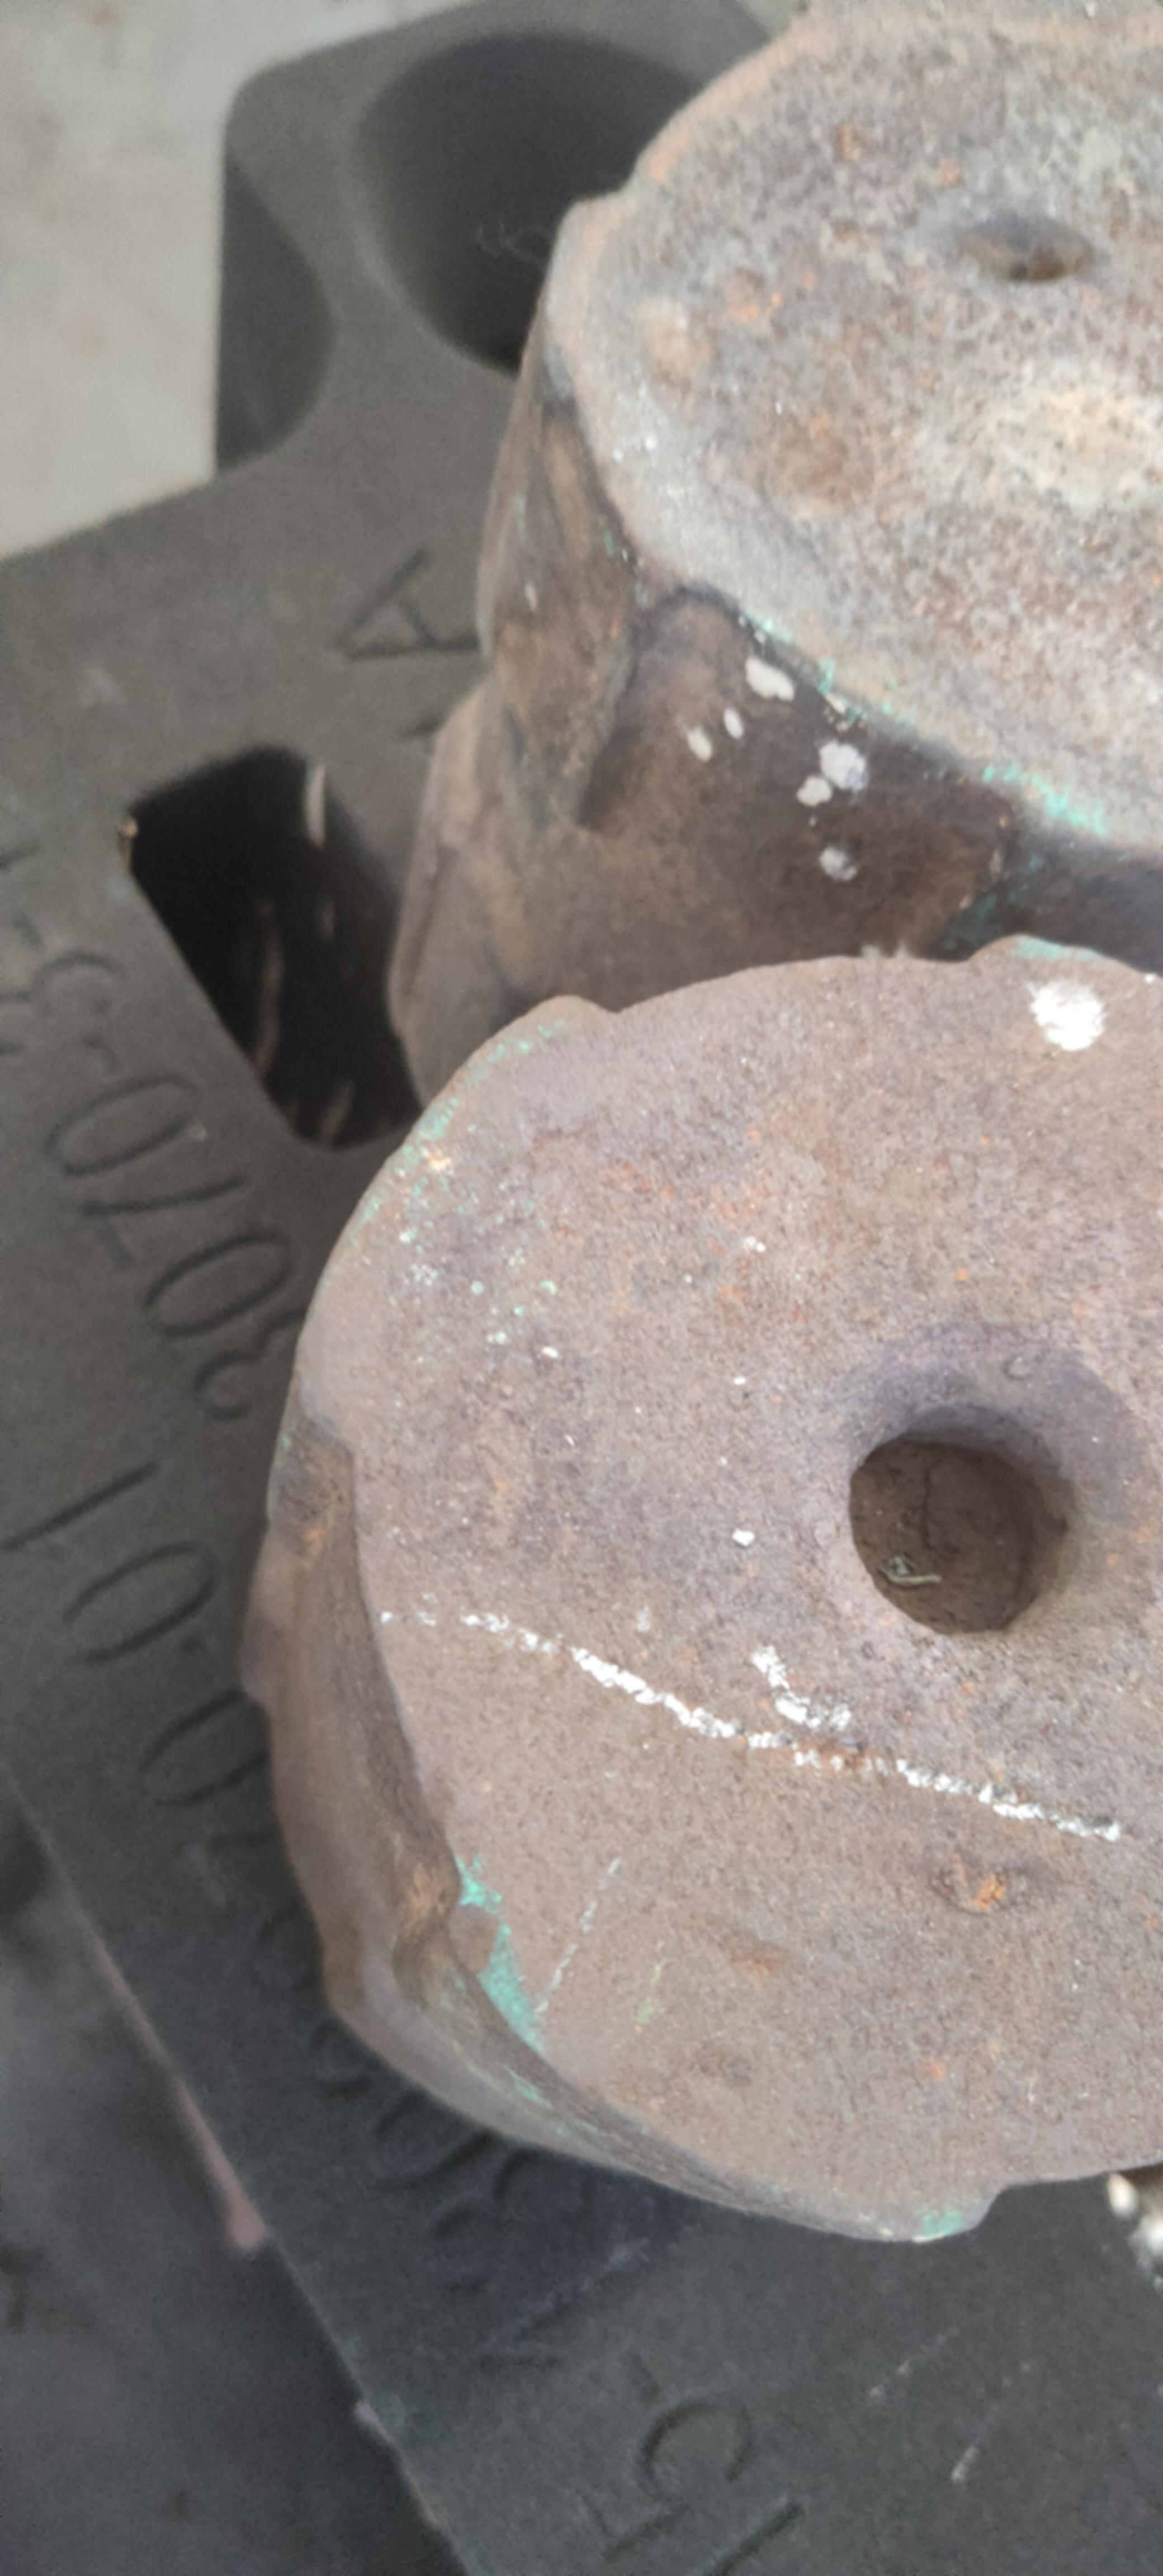pouring hole: (347, 34, 757, 384)
